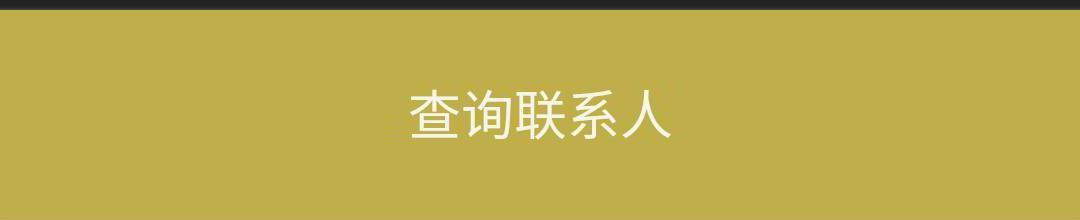Button: (1, 1, 1079, 219)
